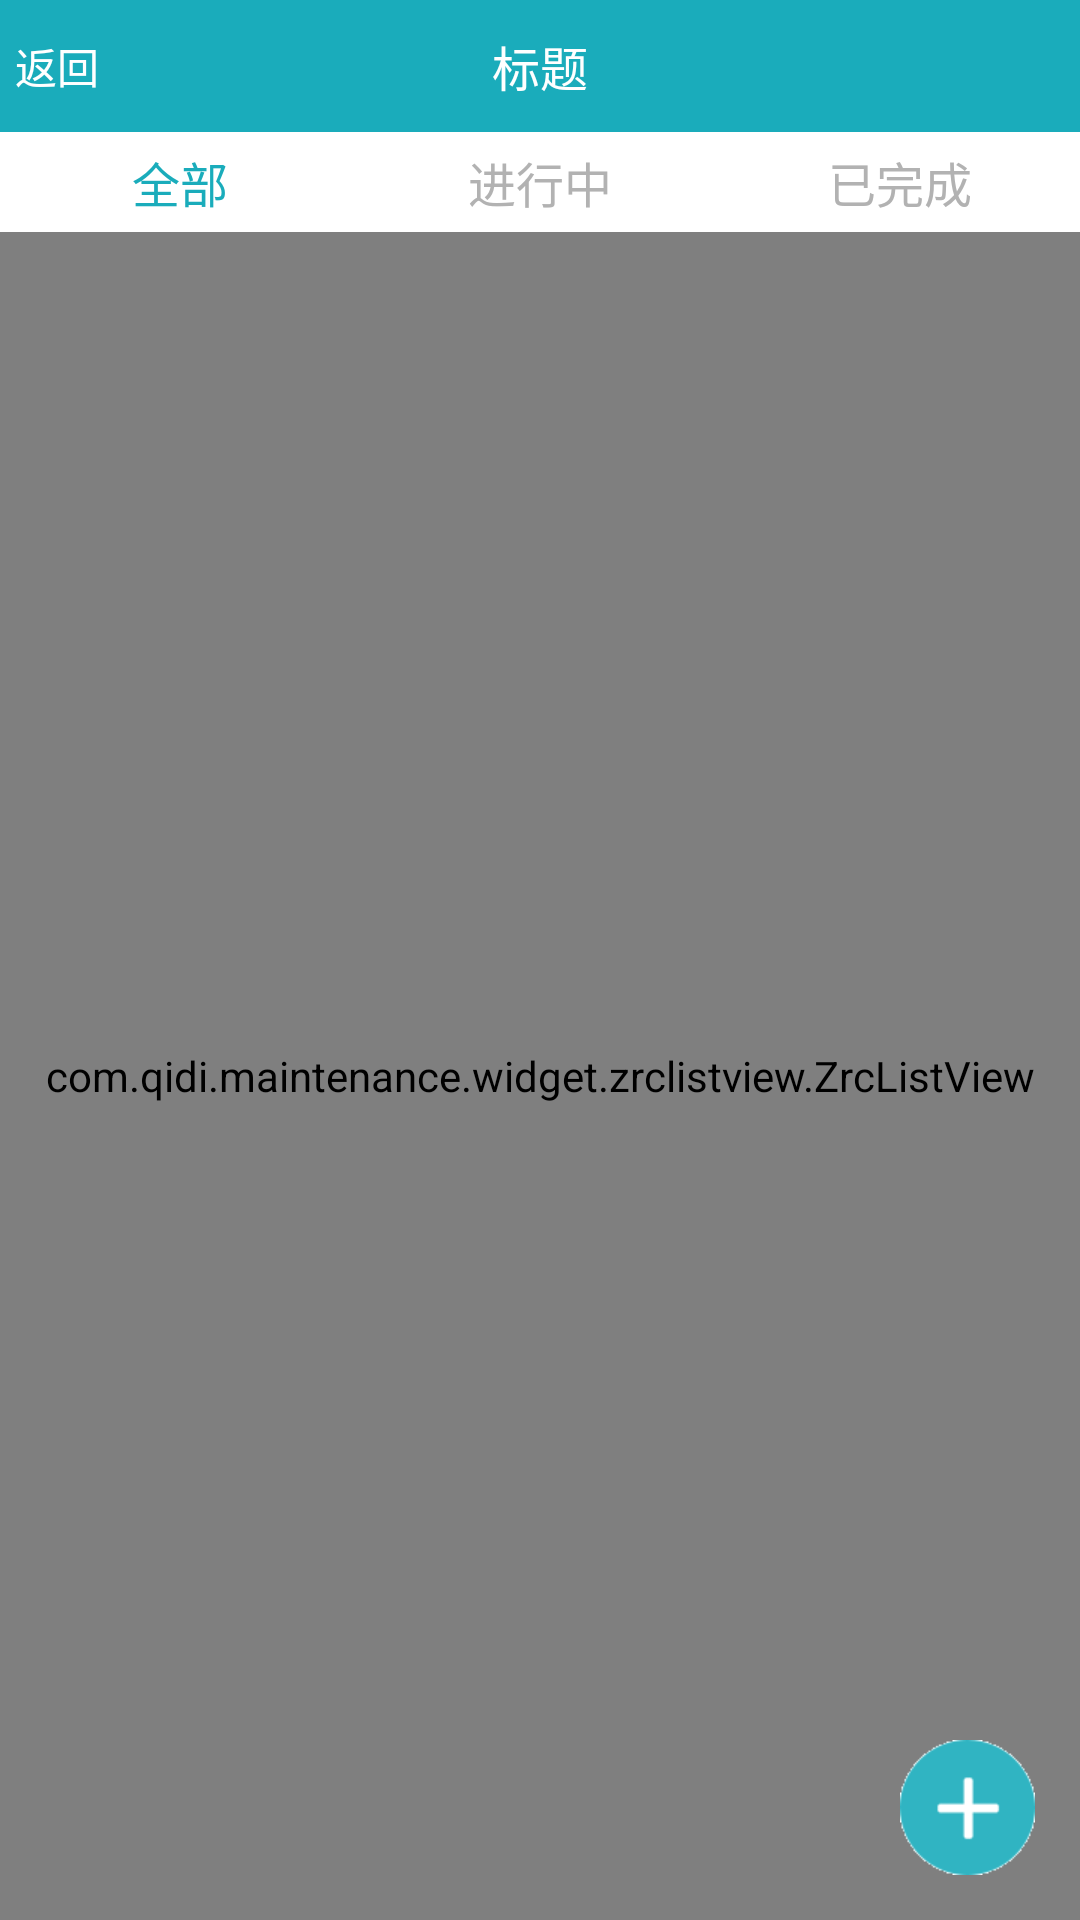

Named icons in this screenshot (1080px x 1920px) and their centers, [x,y]:
task add: [967,1807]
